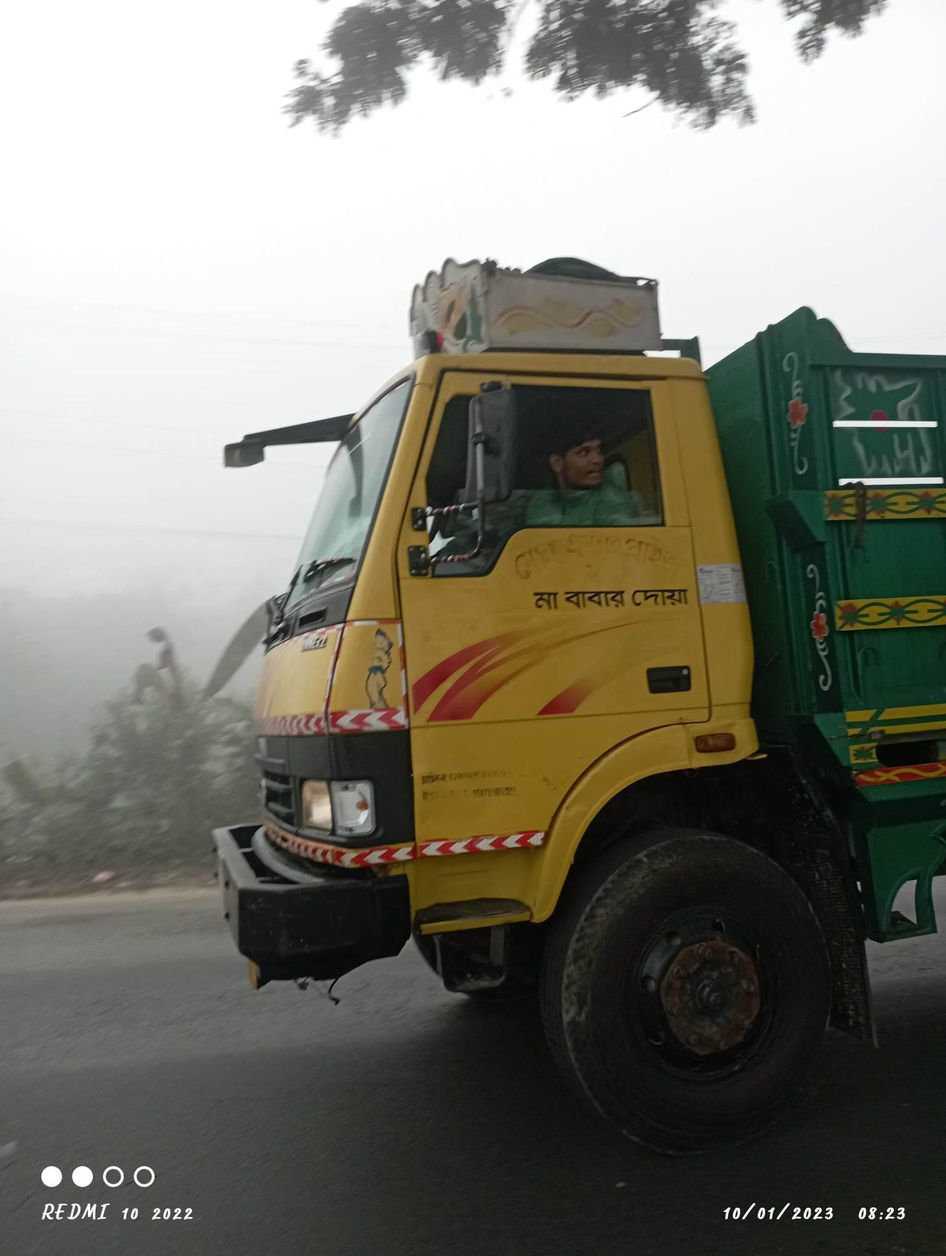Truck: (176, 222, 946, 1188)
